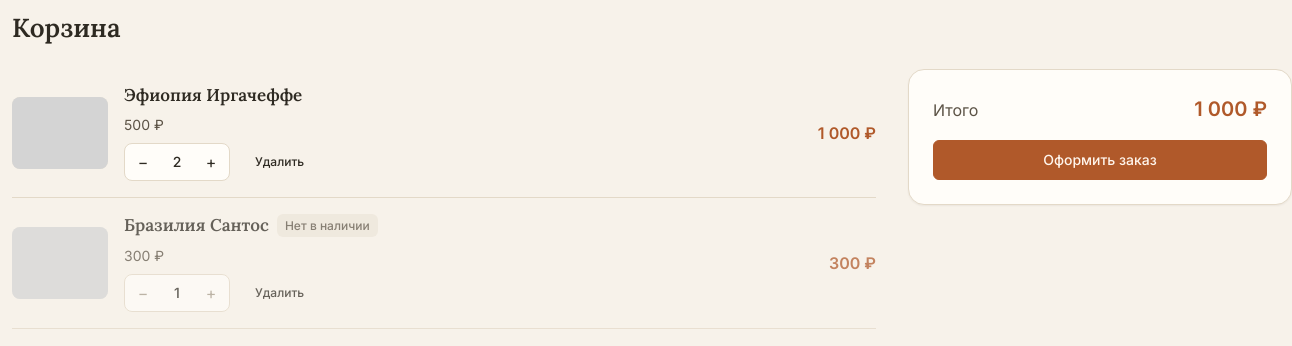
Test: CartPage › removes an item from the list without a full page reload
expect the link "Эфиопия Иргачеффе" is shown: met, box [124, 84, 302, 106]
Click the button "Удалить" below "500 ₽".
click(280, 162)  # box [242, 146, 317, 178]
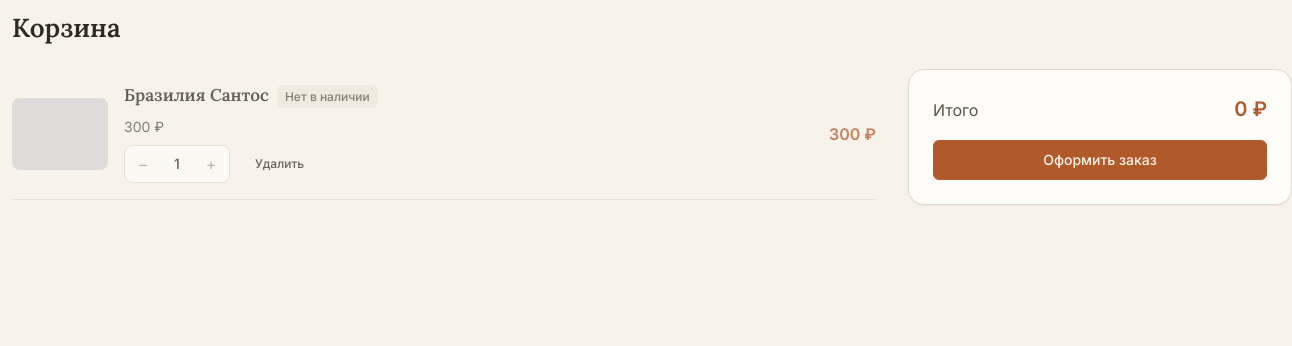
expect the link "Бразилия Сантос" is shown: met, box [124, 85, 269, 107]
expect the link "Эфиопия Иргачеффе" is gone: met
